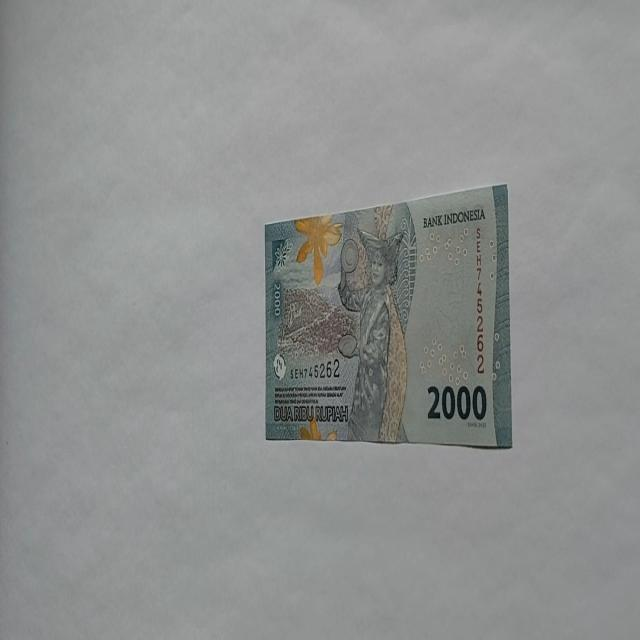dua ribu rupiah: (264, 181, 512, 448), (336, 225, 408, 442)
